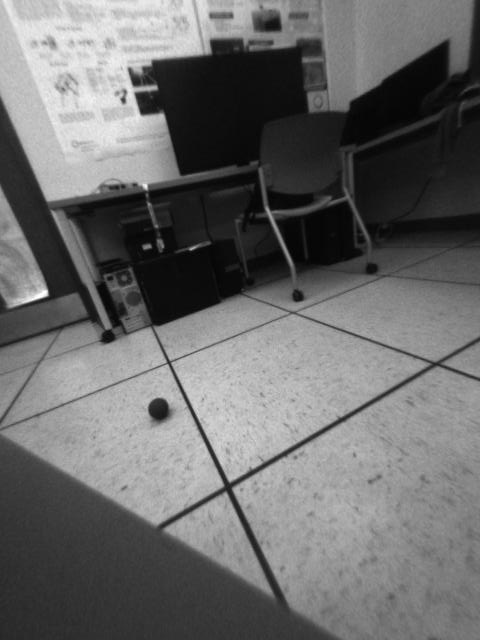dogtoy: (140, 393, 180, 429)
